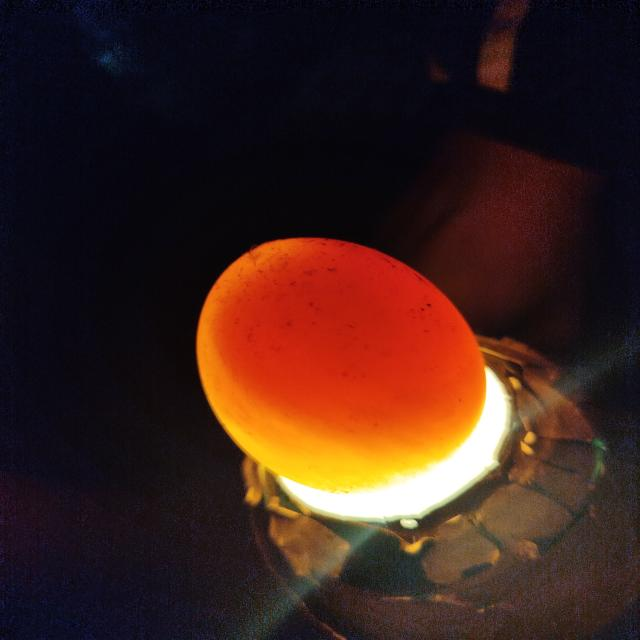Gema Quebrada: (211, 236, 476, 450)
